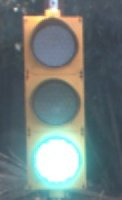Green: (19, 10, 98, 197)
